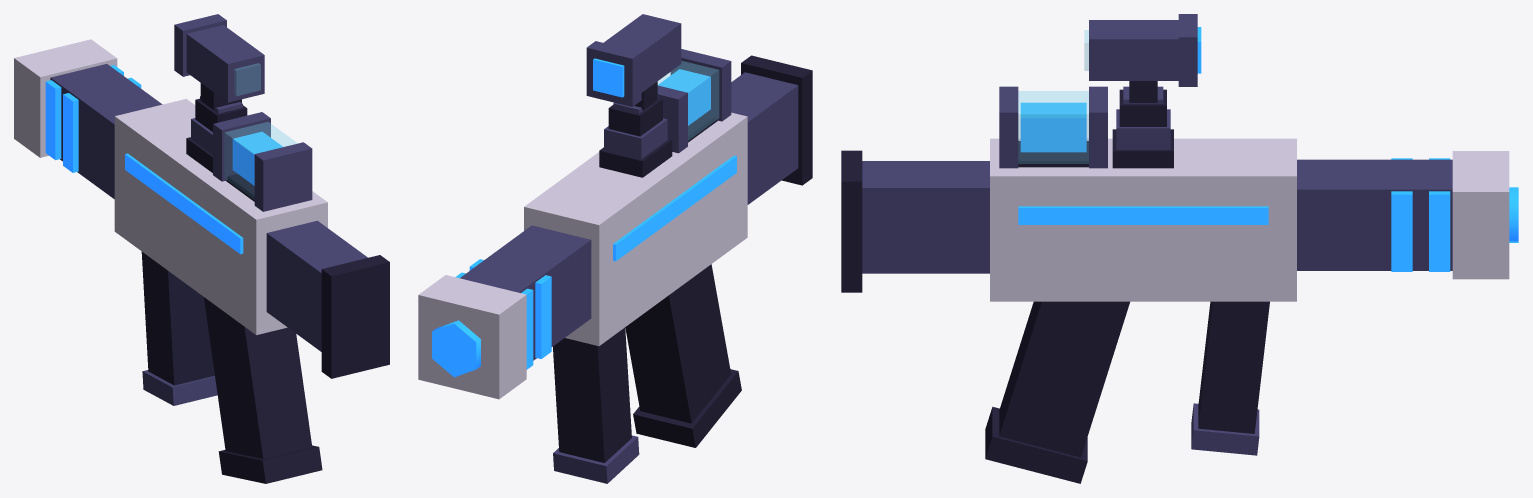
File: beam_rifle.lod1.glb
The picture shows the model from 3 angles, left to right: view 1: azimuth 30°, elevation 25°; view 2: azimuth 150°, elevation 25°; view 3: azimuth 270°, elevation 25°; orthographic projection. The views are drawn at different scales.
Visible parts, largest first — view 1: item.beam_rifle.body, part.cell; view 2: item.beam_rifle.body, part.cell; view 3: item.beam_rifle.body, part.cell.
Boxes of the visible parts, x1,y1,x2,y2 form: item.beam_rifle.body: (14, 14, 389, 483); part.cell: (213, 112, 312, 211); item.beam_rifle.body: (418, 14, 812, 483); part.cell: (657, 49, 731, 153); item.beam_rifle.body: (841, 14, 1518, 483); part.cell: (999, 86, 1107, 168).
Bounding box in the file's own units: 0.1281 × 0.6475 × 0.8969.
